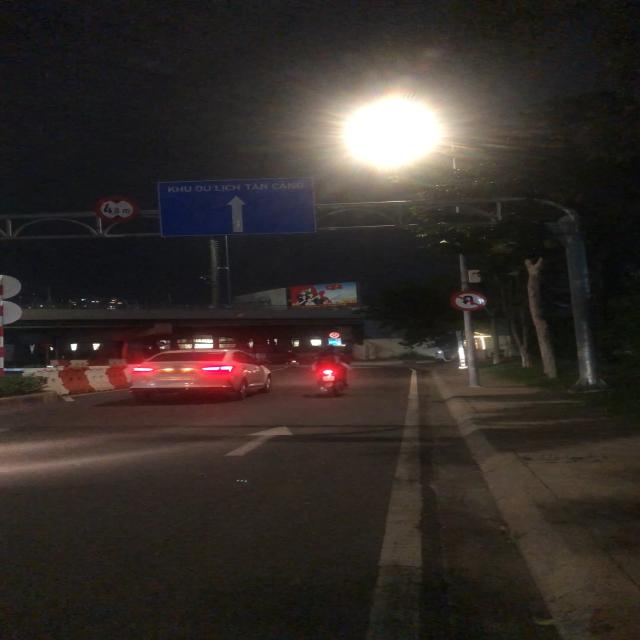Bien bao cam quay dau xe: (447, 289, 492, 312)
Bien bao han che chieu cao: (93, 194, 139, 224)
